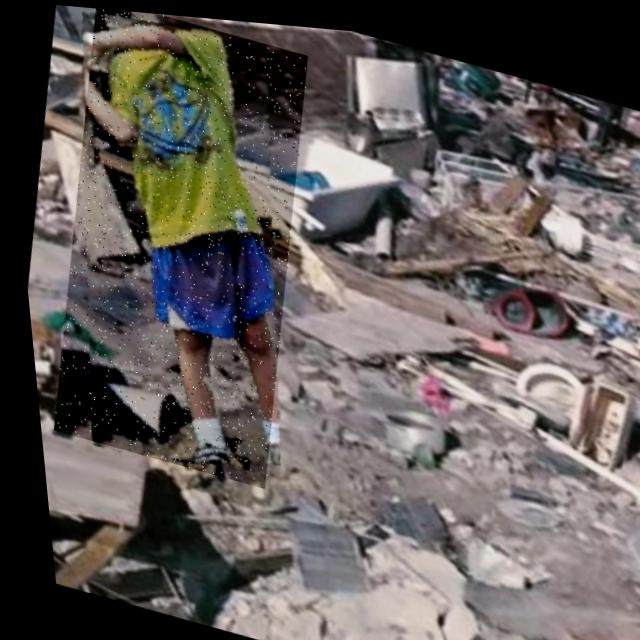Person in Rubble: (13, 1, 343, 491)
